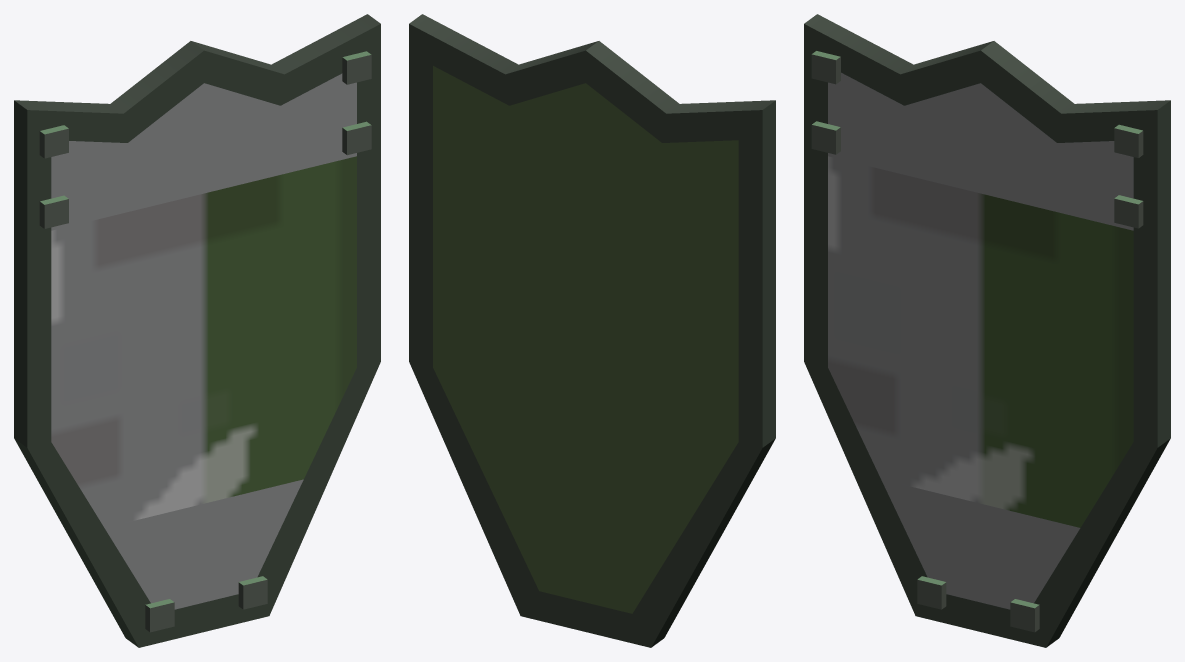
Rendered from SF_Wep_Human_Shield_09.glb.
3 renders of one model, left to right at view 1: azimuth 30°, elevation 25°; view 2: azimuth 150°, elevation 25°; view 3: azimuth 330°, elevation 25°, orthographic.
Visible parts, largest first — view 1: SF_Wep_Human_Shield_09; view 2: SF_Wep_Human_Shield_09; view 3: SF_Wep_Human_Shield_09.
Boxes of the visible parts, x1=… form: SF_Wep_Human_Shield_09: x1=14, y1=14, x2=380, y2=647; SF_Wep_Human_Shield_09: x1=409, y1=14, x2=775, y2=647; SF_Wep_Human_Shield_09: x1=804, y1=14, x2=1170, y2=647.
Bounding box in the file's own units: 0.00956 × 0.015 × 0.000851.
Materials: 1 (1 with a texture image).
